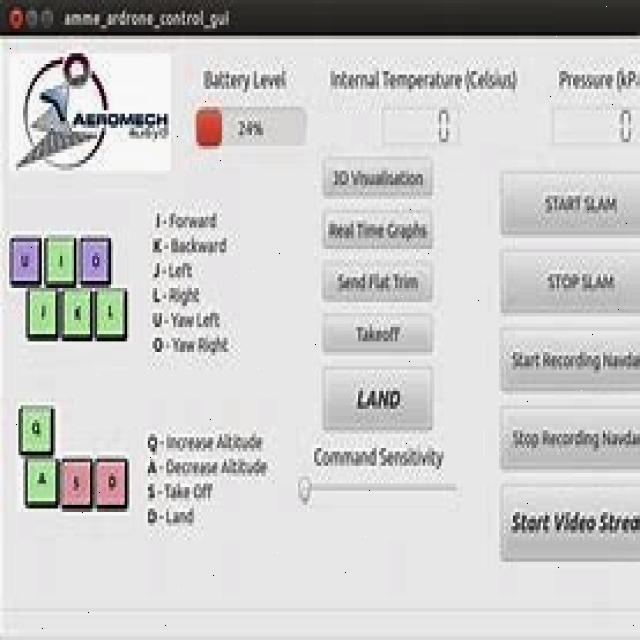button: (497, 476, 640, 562), (496, 243, 640, 318), (497, 398, 640, 473), (497, 164, 640, 238), (496, 323, 640, 395), (319, 362, 436, 436), (318, 152, 435, 202), (320, 256, 436, 304), (321, 307, 435, 355), (320, 206, 436, 252), (94, 453, 130, 513), (93, 287, 129, 341), (60, 455, 94, 512), (18, 405, 55, 456), (25, 458, 59, 509), (25, 288, 59, 339), (78, 235, 112, 286), (8, 235, 42, 286), (60, 290, 94, 340), (43, 236, 77, 286), (7, 5, 24, 32), (24, 7, 39, 34), (40, 9, 55, 32)
icon: (0, 37, 174, 179)
input: (550, 100, 640, 146), (380, 105, 463, 146)
label: (326, 64, 523, 96), (62, 0, 235, 29), (311, 441, 445, 471), (144, 456, 268, 479), (200, 64, 292, 95), (144, 430, 266, 452), (146, 230, 235, 260), (552, 66, 640, 94), (148, 332, 232, 357), (148, 208, 227, 234), (143, 479, 218, 505), (150, 308, 223, 331), (148, 284, 210, 311), (142, 505, 201, 526), (150, 262, 200, 284), (234, 115, 265, 141)
slider: (296, 473, 463, 508)
